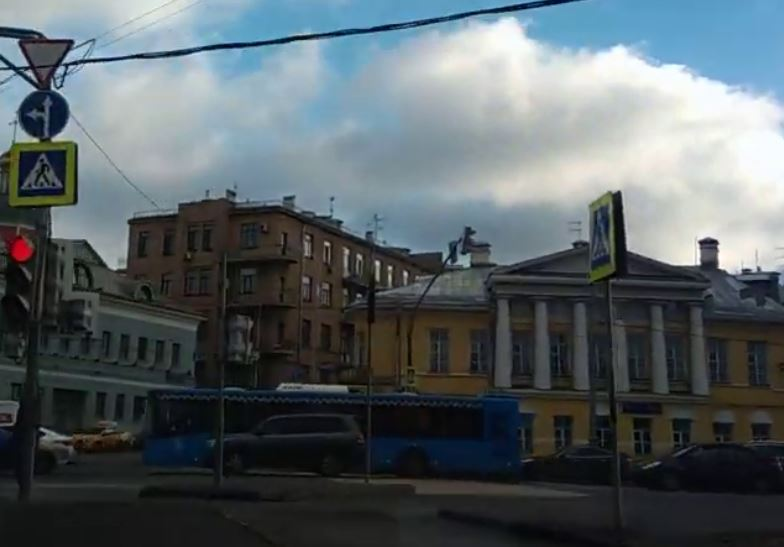Yaya Gecidi: (21, 151, 68, 196)
Yol Ver: (23, 35, 72, 88)
